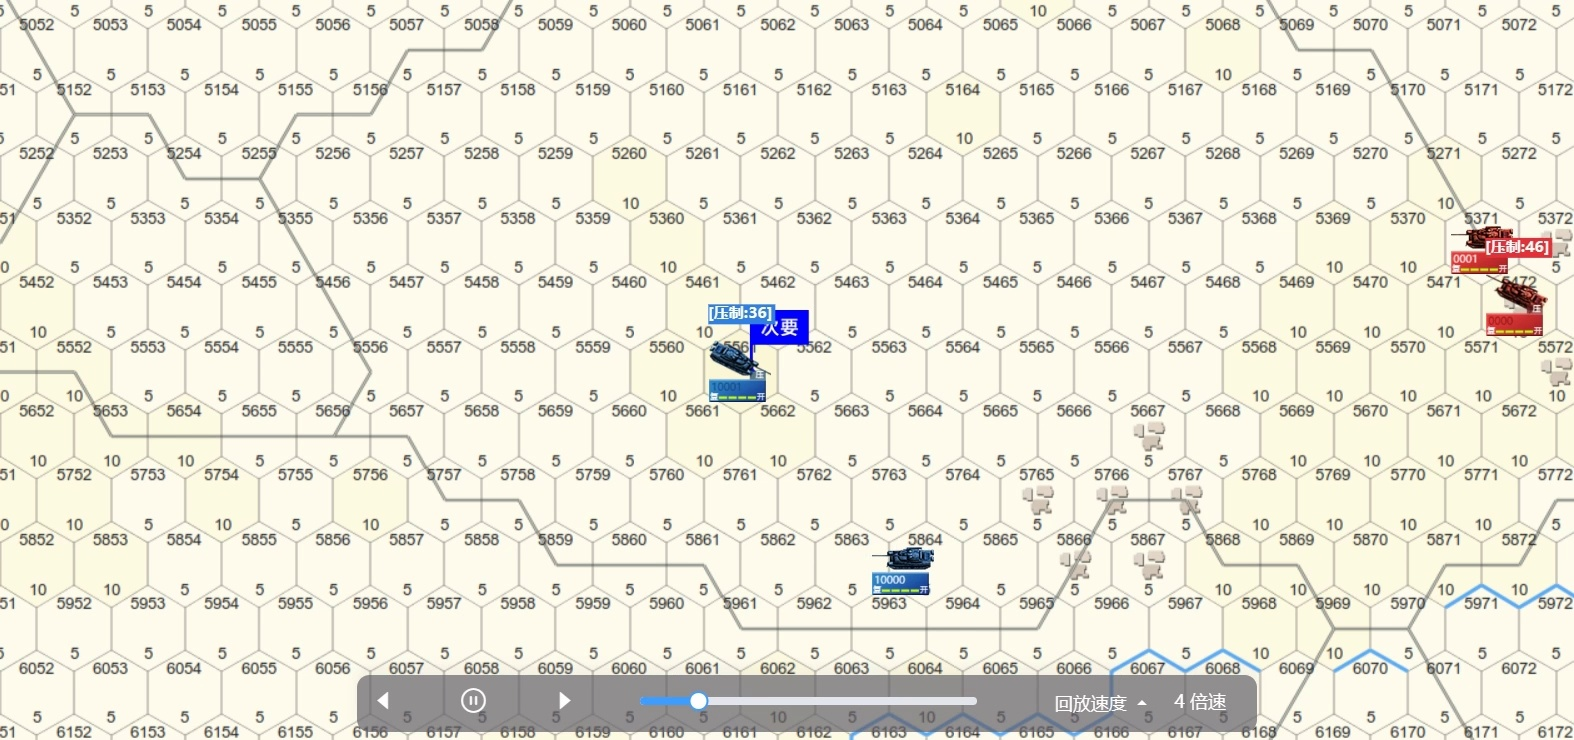blue_tank: (706, 345, 768, 404), (876, 547, 934, 594)
red_tank: (1490, 285, 1541, 334), (1456, 228, 1507, 270)
